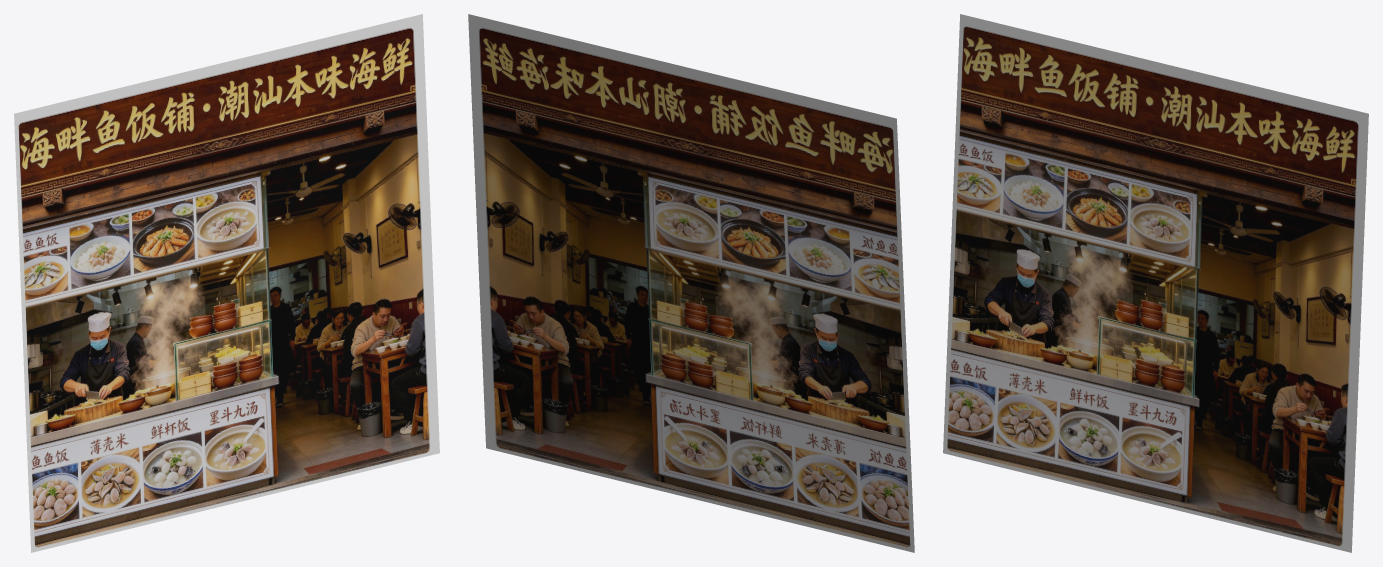
Rendered from liu (4).glb.
3 renders of one model, left to right at view 1: azimuth 30°, elevation 25°; view 2: azimuth 150°, elevation 25°; view 3: azimuth 330°, elevation 25°, orthographic. The views are drawn at different scales.
Parts seen in each view (by area): view 1: 平面; view 2: 平面; view 3: 平面.
Boxes of the visible parts, x1=… form: 平面: x1=14, y1=14, x2=439, y2=552; 平面: x1=468, y1=14, x2=914, y2=552; 平面: x1=943, y1=14, x2=1368, y2=552.
Size of the model in its own units: 6.98 by 6.97 by 0.5059.
1 material, 1 textured.
